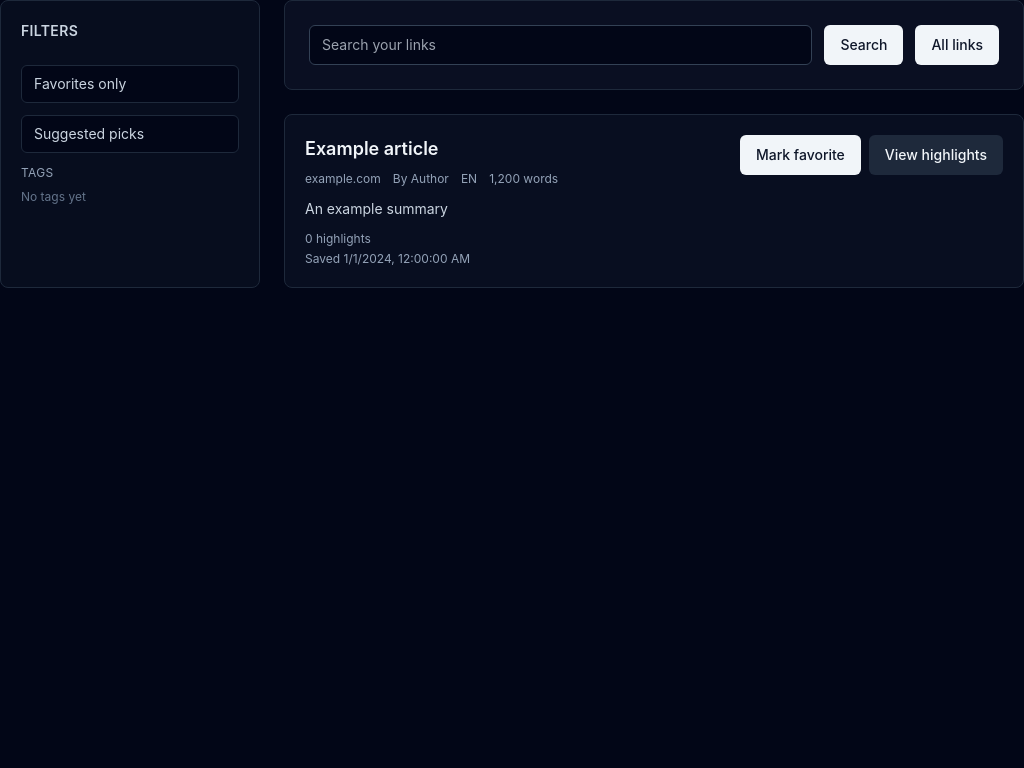
ListPage › highlight submissions append new highlight
The image size is (1024, 768).
Click the button "View highlights".
click(936, 155)  # box 869,135 -> 1003,175
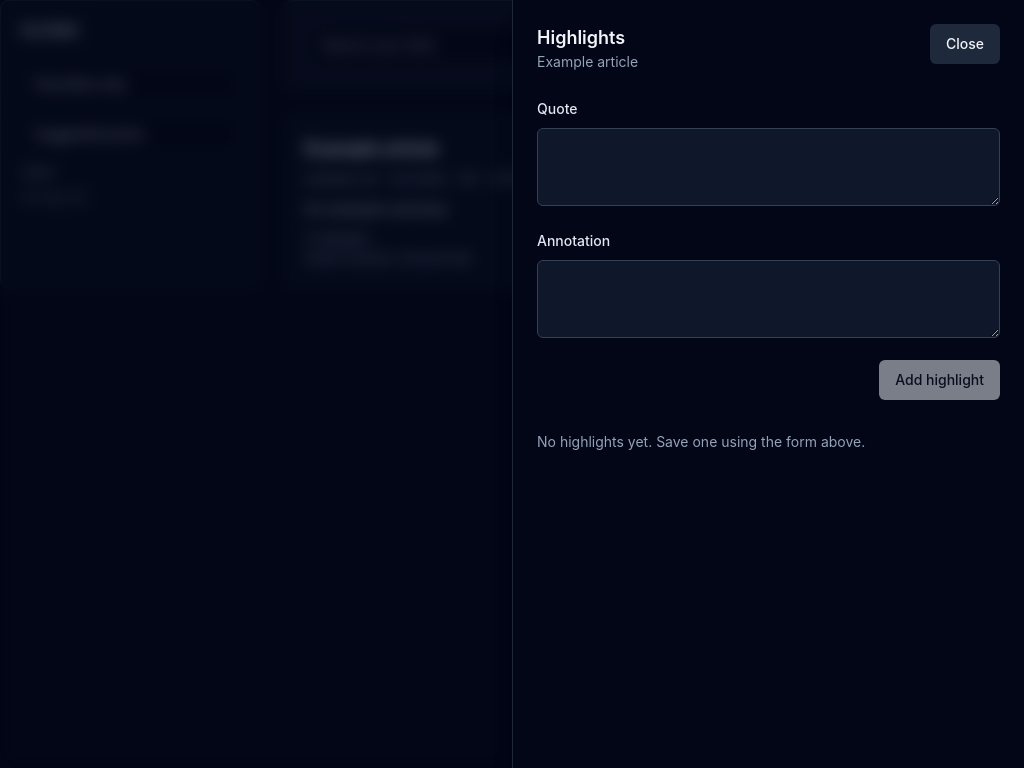
Type "A brand new highlight" into the text box labelled "Quote".
click(768, 167); type("A brand new highlight")  # box 537,128 -> 1000,206
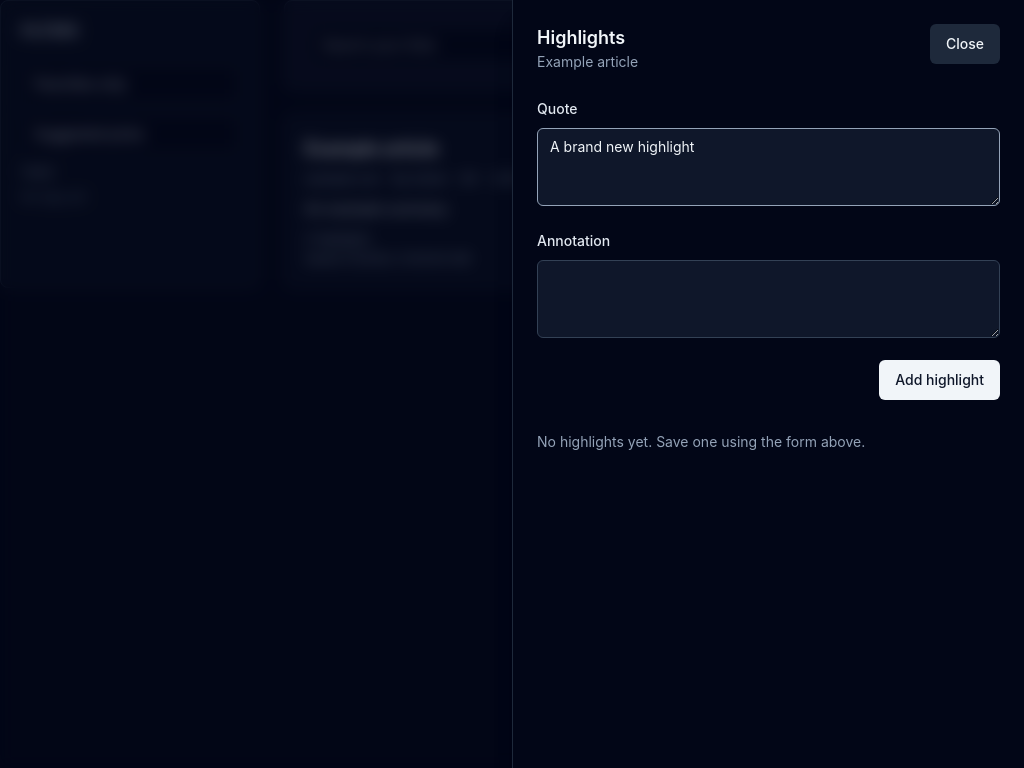
Type "My thoughts" into the text box labelled "Annotation".
click(768, 299); type("My thoughts")  # box 537,260 -> 1000,338
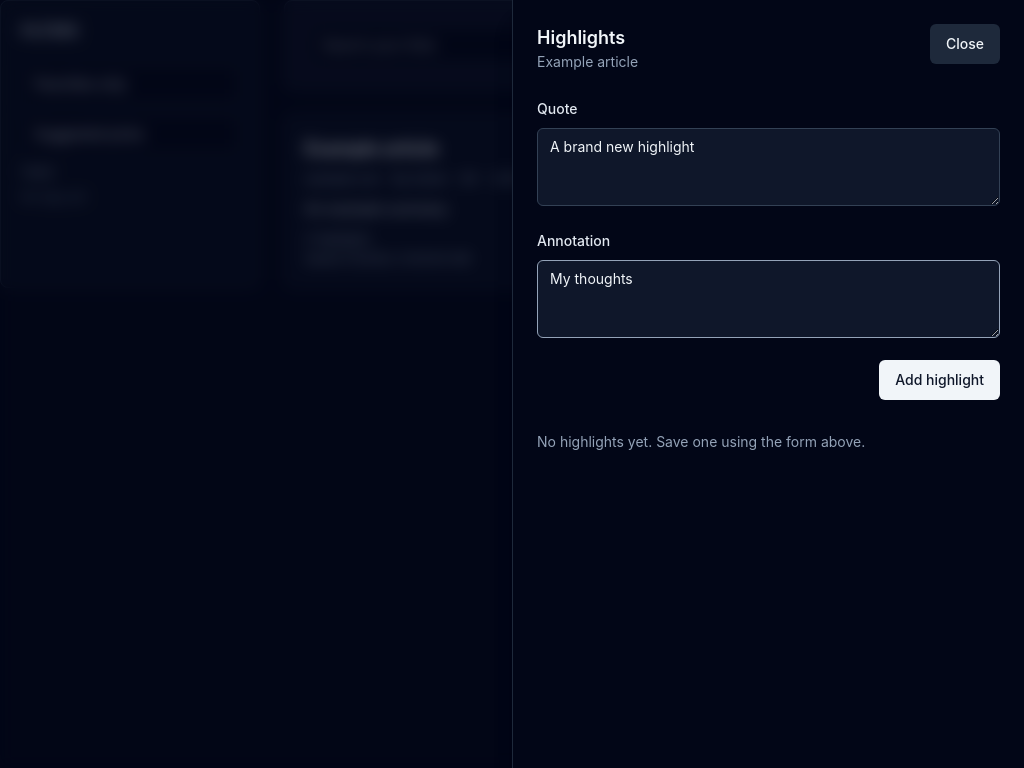
Click the button "Add highlight".
click(940, 380)  # box 879,360 -> 1000,400
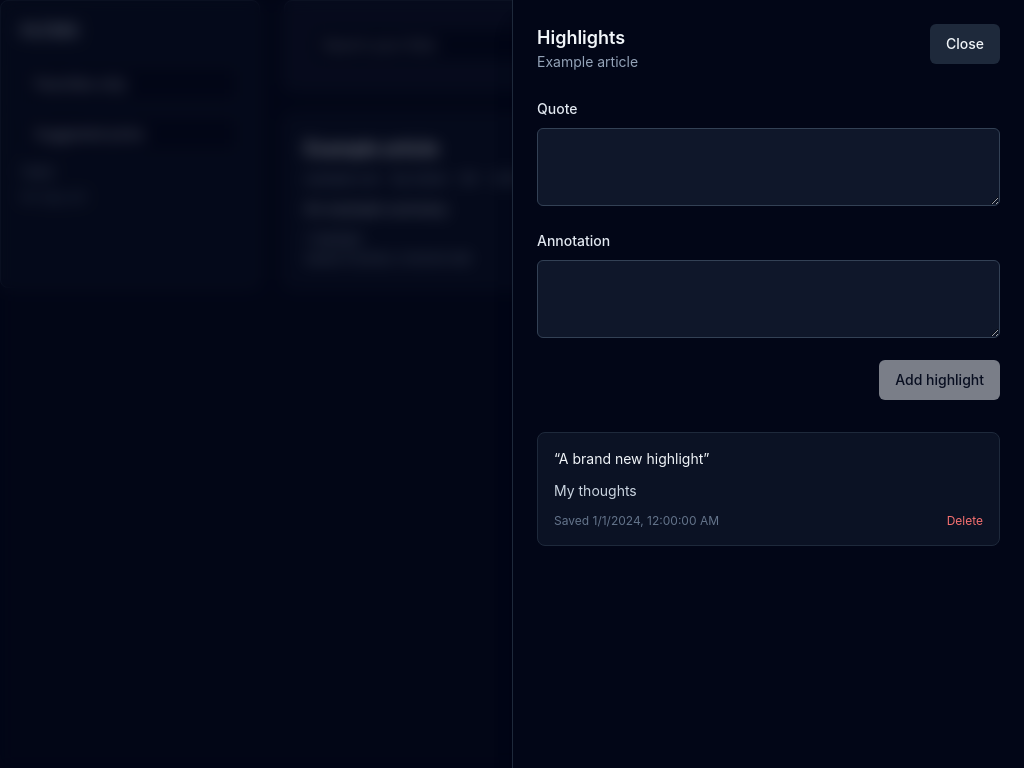
Expected: the text "“A brand new highlight”" is shown, 554,450 -> 709,467
